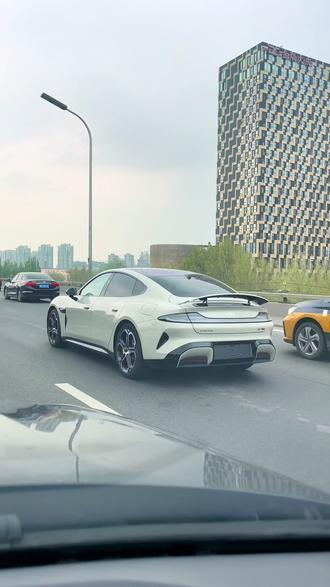other: (286, 290, 330, 356), (5, 266, 64, 300)
su7: (51, 264, 274, 379)
